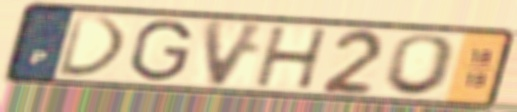2: (320, 26, 388, 97)
D: (55, 12, 131, 79)
G: (127, 18, 195, 83)
H: (252, 25, 332, 91)
O: (379, 33, 462, 98)
V: (201, 16, 272, 90)
